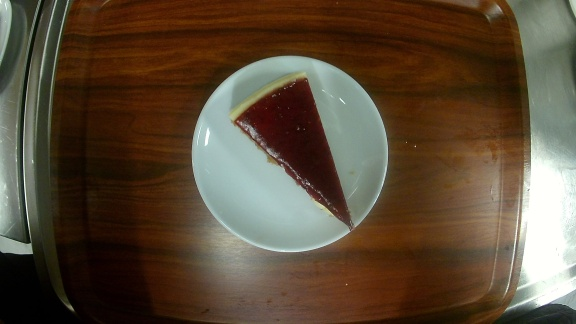frambuazlipasta: (192, 54, 389, 253)
